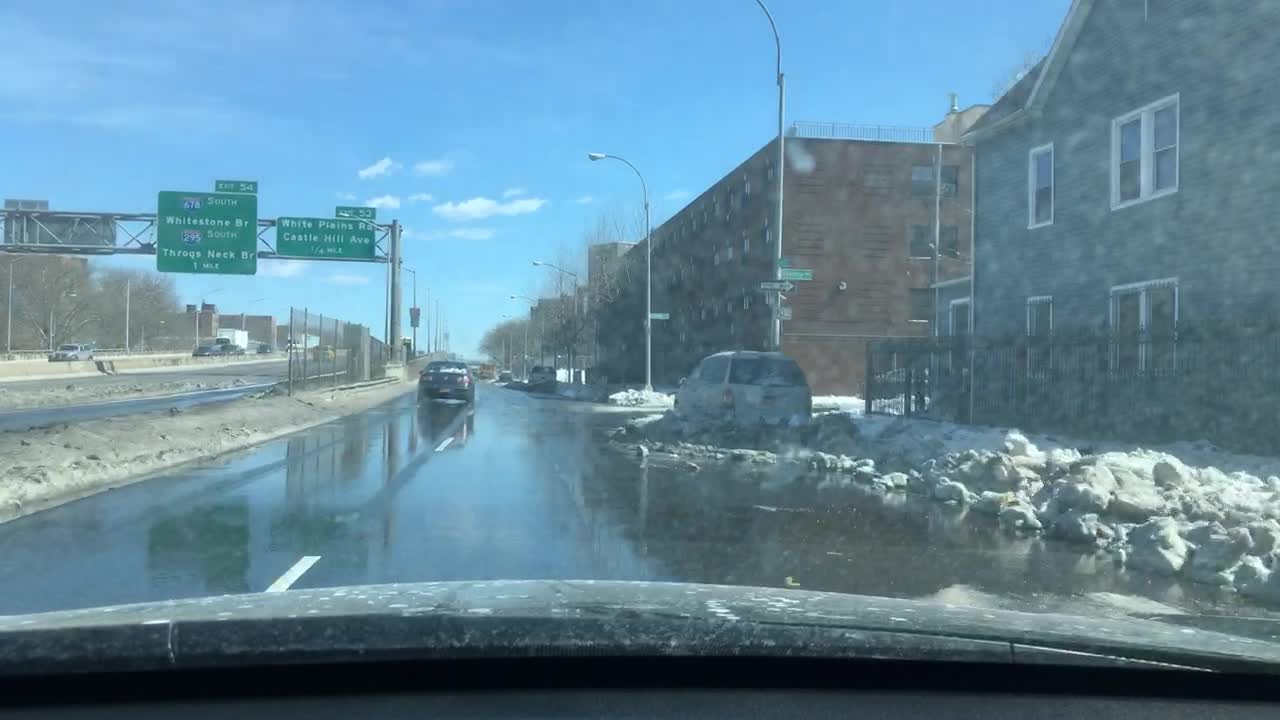car: (670, 351, 814, 437), (416, 361, 477, 406)
